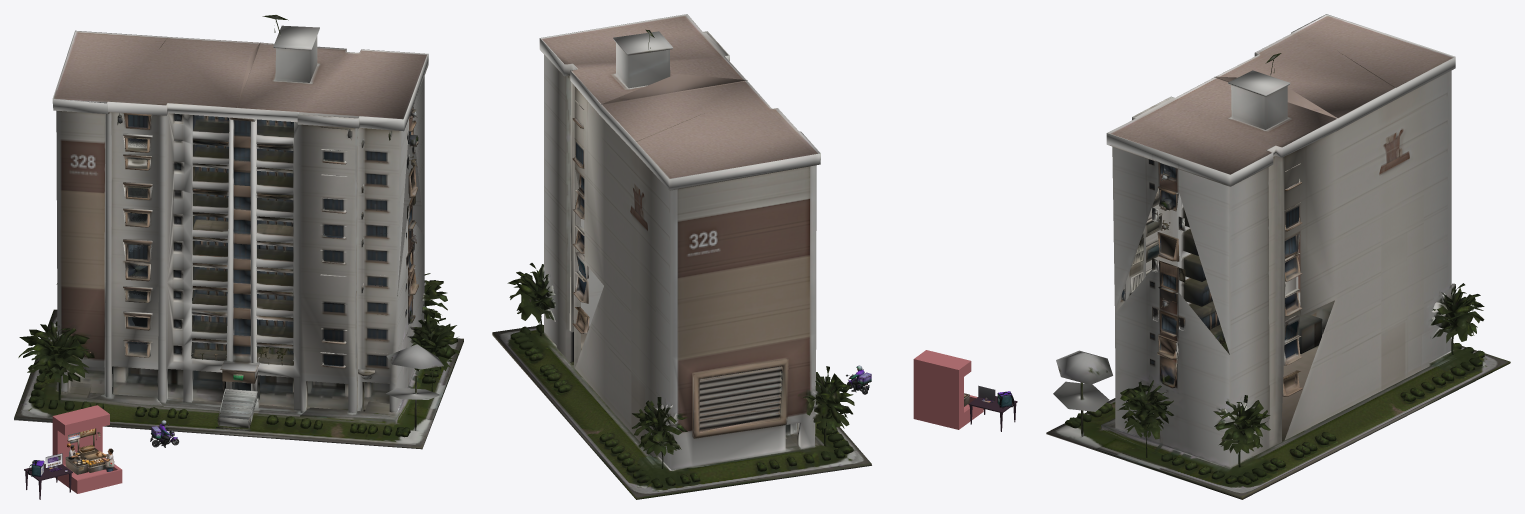
File: kb_desk_top.glb
3 views of the same model, side by side, from view 1: azimuth 30°, elevation 25°; view 2: azimuth 150°, elevation 25°; view 3: azimuth 270°, elevation 25° (orthographic).
Parts seen in each view (by area): view 1: tripo_node_0b94bc5a; view 2: tripo_node_0b94bc5a; view 3: tripo_node_0b94bc5a.
Part boxes in pixels (box(x1,y1,x2,y2)): tripo_node_0b94bc5a: box(14, 15, 463, 499); tripo_node_0b94bc5a: box(492, 14, 1017, 499); tripo_node_0b94bc5a: box(1046, 14, 1510, 499).
Size of the model in its own units: 17.98 by 13.16 by 15.03.
10 materials, 6 textured.
